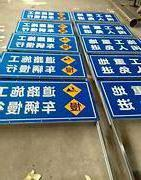sign: (1, 82, 91, 120), (1, 52, 84, 80), (100, 80, 141, 119), (5, 34, 78, 53), (93, 56, 141, 80), (83, 35, 140, 54), (15, 19, 72, 35), (77, 22, 133, 37), (21, 9, 70, 21), (73, 10, 119, 22)
